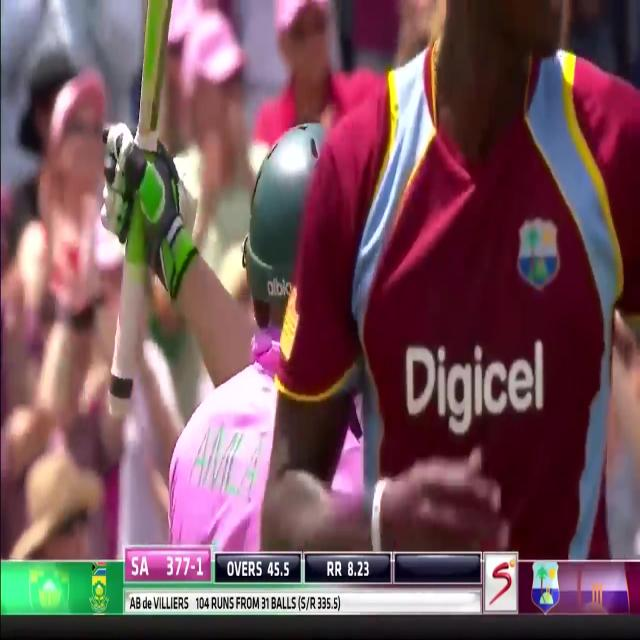Ball: (143, 59, 410, 551)
Fielder: (258, 0, 640, 548)
